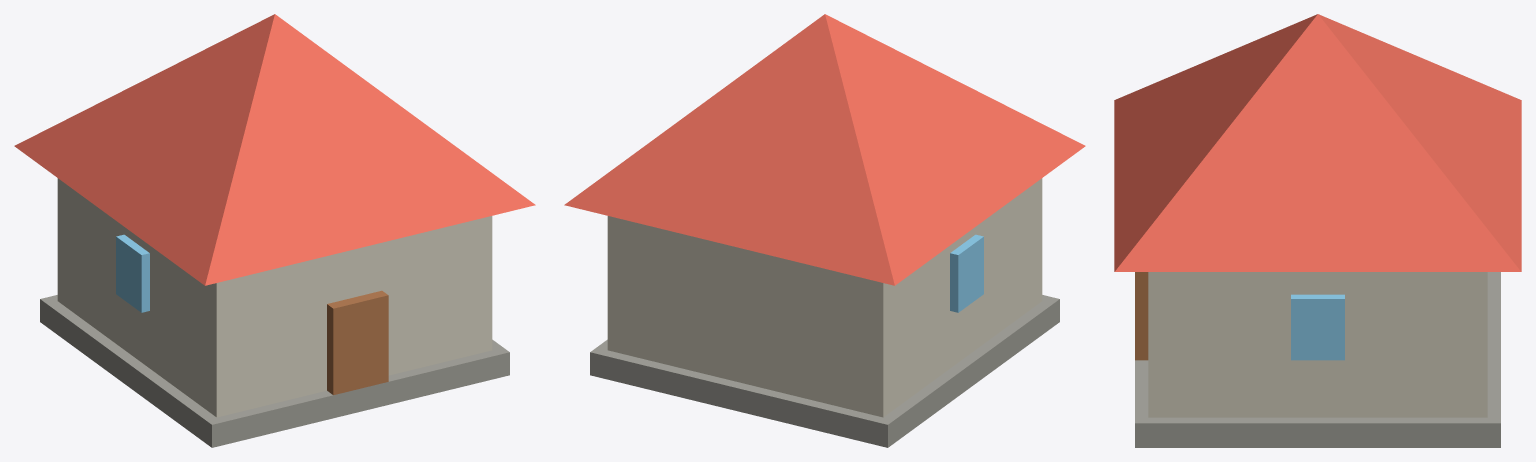
Rendered from house_t1_v3.glb.
3 views of the same model, side by side, from view 1: azimuth 30°, elevation 25°; view 2: azimuth 150°, elevation 25°; view 3: azimuth 270°, elevation 25° (orthographic). The views are drawn at different scales.
Visible parts, largest first — view 1: house_t1_v3; view 2: house_t1_v3; view 3: house_t1_v3.
Boxes of the visible parts, x1,y1,x2,y2 form: house_t1_v3: (14,14,535,447); house_t1_v3: (564,14,1085,447); house_t1_v3: (1114,14,1521,447).
Bounding box in the file's own units: 0.6 × 0.58 × 0.6.
Materials: 1 (1 with a texture image).
